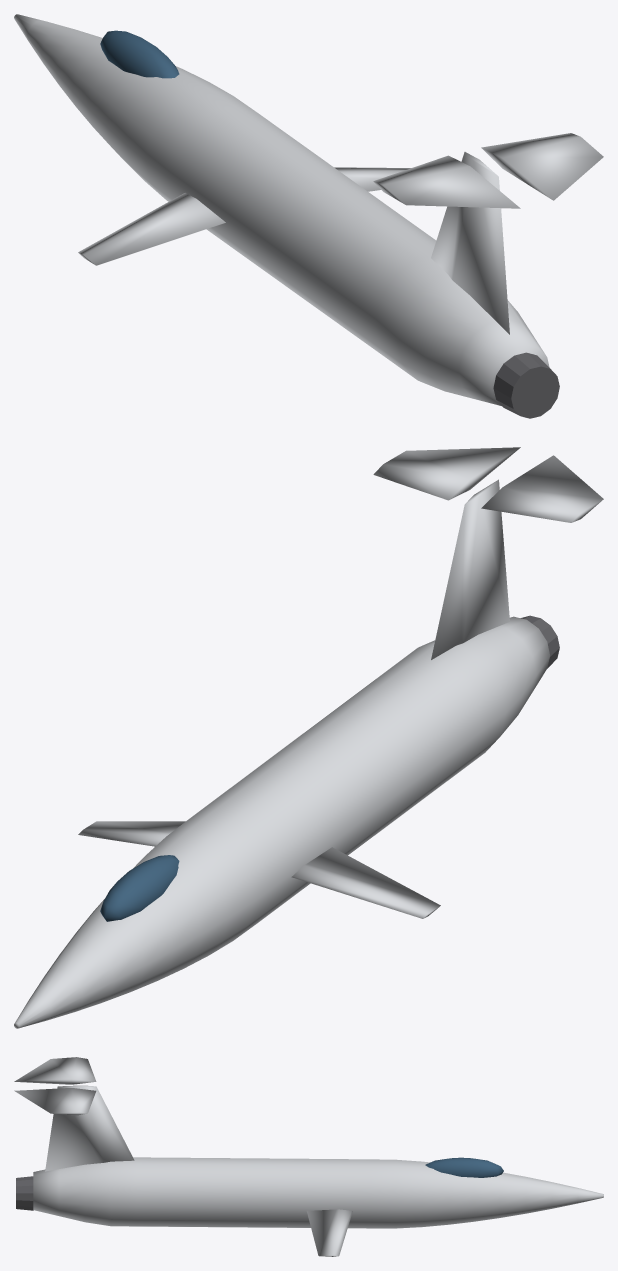
3 renders of one model, top to bottom at view 1: azimuth 30°, elevation 25°; view 2: azimuth 150°, elevation 25°; view 3: azimuth 270°, elevation 25°, orthographic. The views are drawn at different scales.
Visible parts, largest first — view 1: Body, Detail, Canopy; view 2: Body, Canopy; view 3: Body, Canopy, Detail.
Part boxes in pixels (bbox=[...]): Body: bbox=[14, 14, 603, 405]; Detail: bbox=[493, 352, 559, 418]; Canopy: bbox=[100, 30, 179, 78]; Body: bbox=[14, 447, 603, 1028]; Canopy: bbox=[100, 855, 179, 921]; Body: bbox=[14, 1057, 603, 1256]; Canopy: bbox=[425, 1157, 503, 1177]; Detail: bbox=[16, 1176, 33, 1210].
Bounding box in the file's own units: 660 × 458 × 1726.
